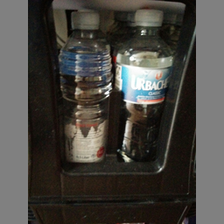water: (114, 9, 173, 163), (59, 10, 112, 163)
